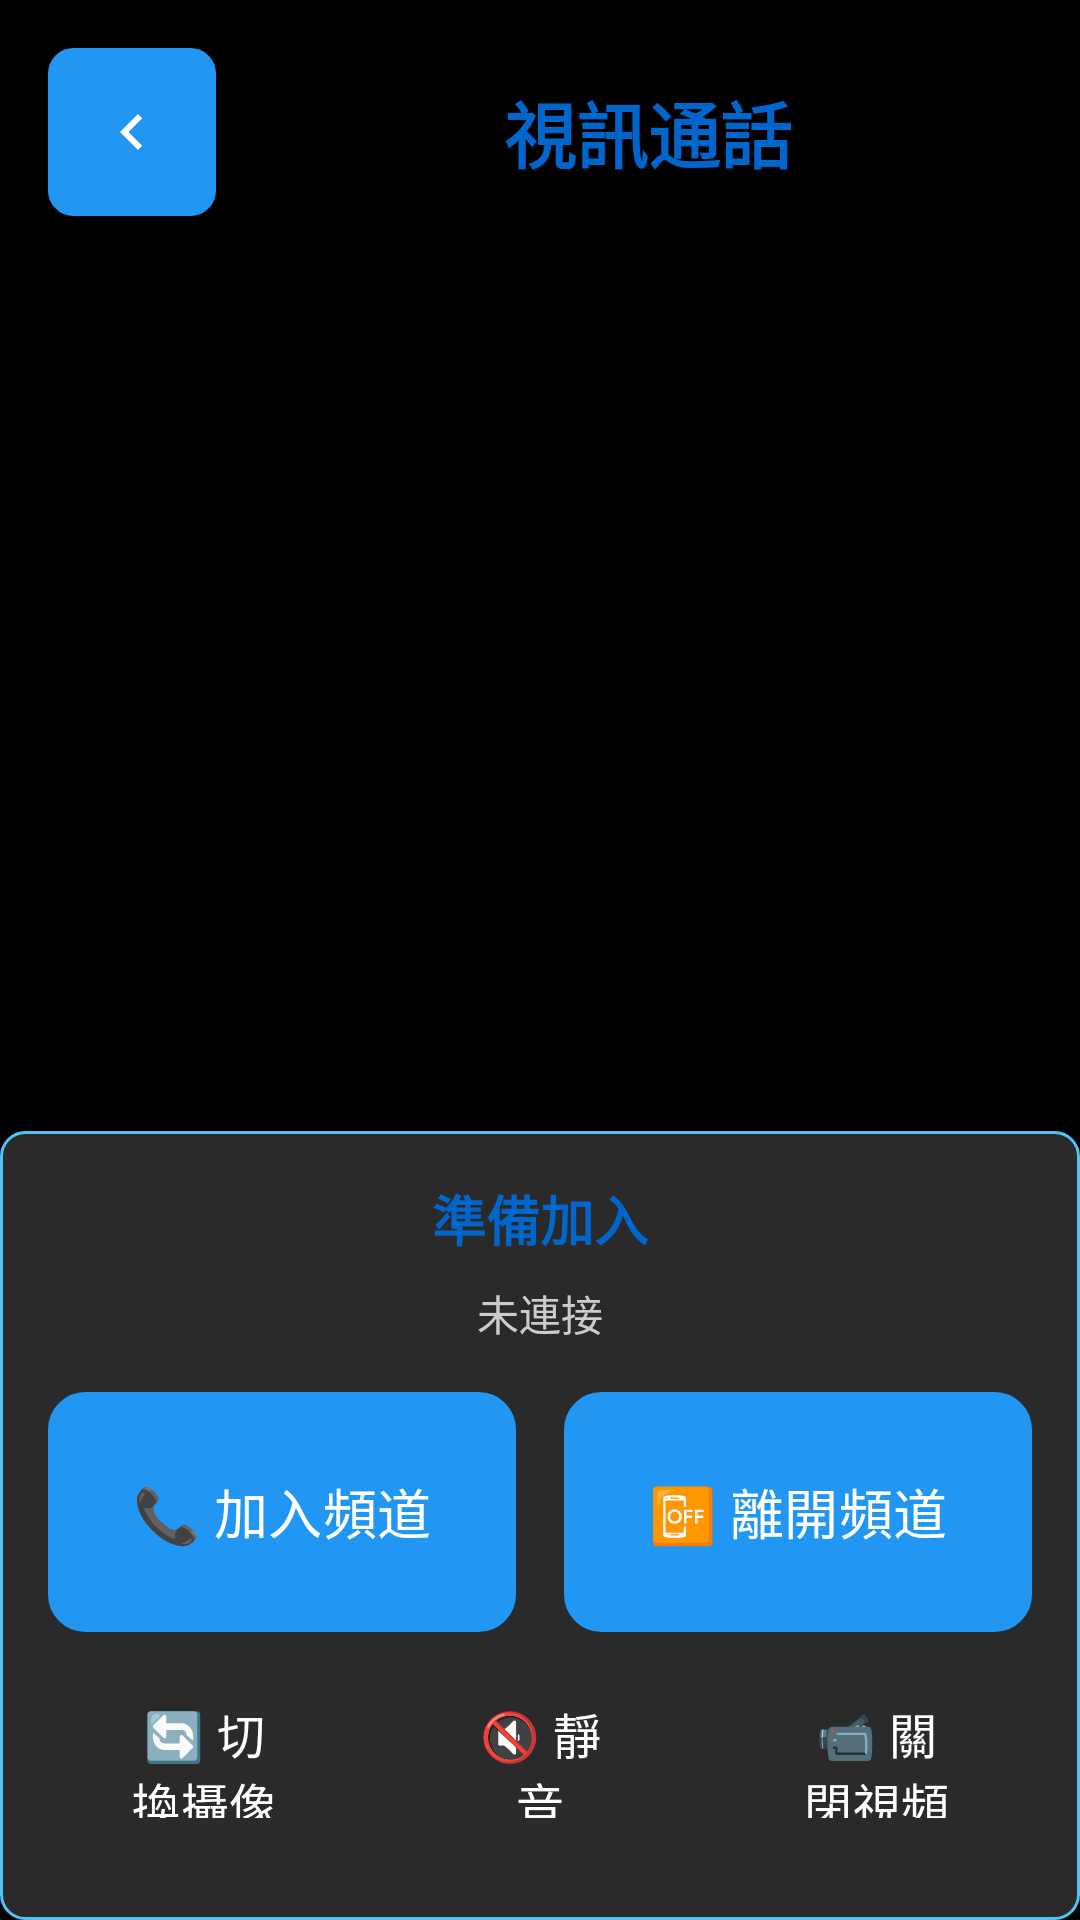

Where to tap for icons on this 1080 × 1920 app screen, as (x,y):
Back Button: (132,132)
